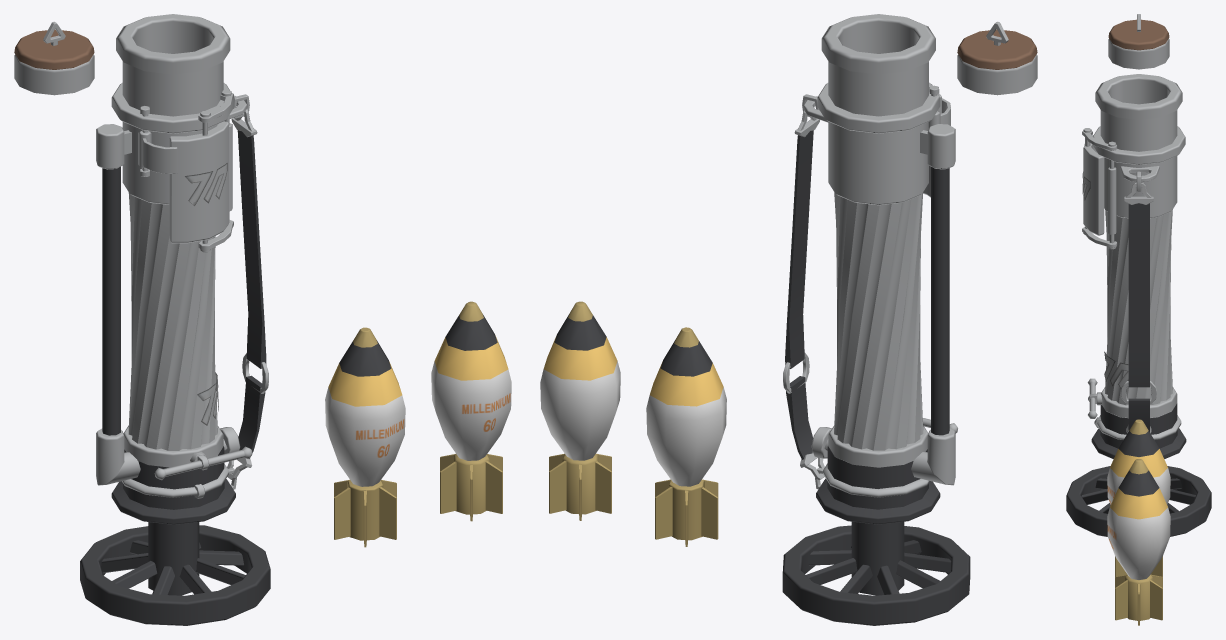
The model's file is Hibiki_Weapon.fbx.
3 views of the same model, side by side, from view 1: azimuth 30°, elevation 25°; view 2: azimuth 150°, elevation 25°; view 3: azimuth 270°, elevation 25° (orthographic). The views are drawn at different scales.
Visible parts, largest first — view 1: Hibiki_Original_Weapon; view 2: Hibiki_Original_Weapon; view 3: Hibiki_Original_Weapon.
Part boxes in pixels (x1,y1,x2,y2): Hibiki_Original_Weapon: (14, 14, 511, 625); Hibiki_Original_Weapon: (540, 14, 1037, 625); Hibiki_Original_Weapon: (1066, 14, 1211, 625).
Size of the model in its own units: 0.5103 by 0.5933 by 0.1732.
1 material, 1 textured.
